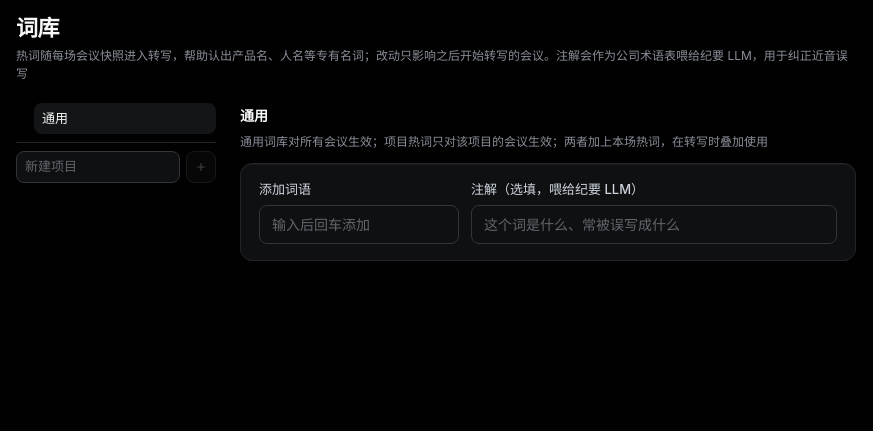
Test: 词库页 › 添加词语可以顺带填注解，一起提交
The width and height of the screenshot is (873, 431).
In the field labelled "添加词语": {"x": 359, "y": 224} [259,205,459,244], type "CUES"
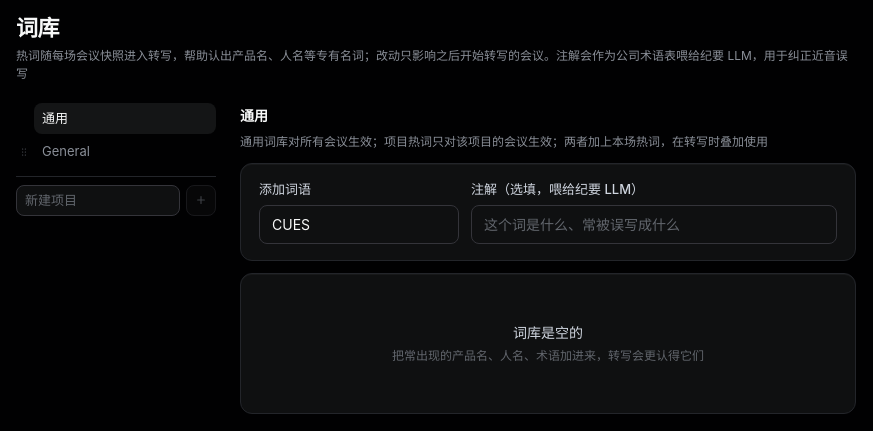
In the field labelled "注解（选填，喂给纪要 LLM）": {"x": 654, "y": 224} [471,205,837,244], type "剑桥工程社团简称"
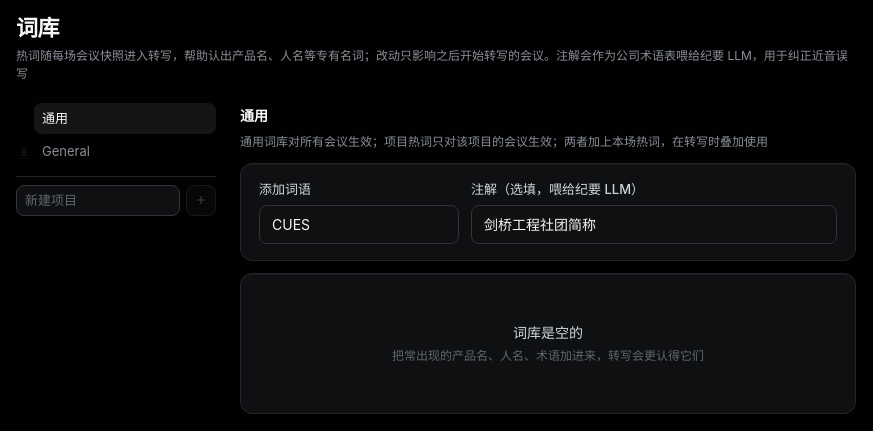
Press Enter in the field labelled "注解（选填，喂给纪要 LLM）", box [471,205,837,244]
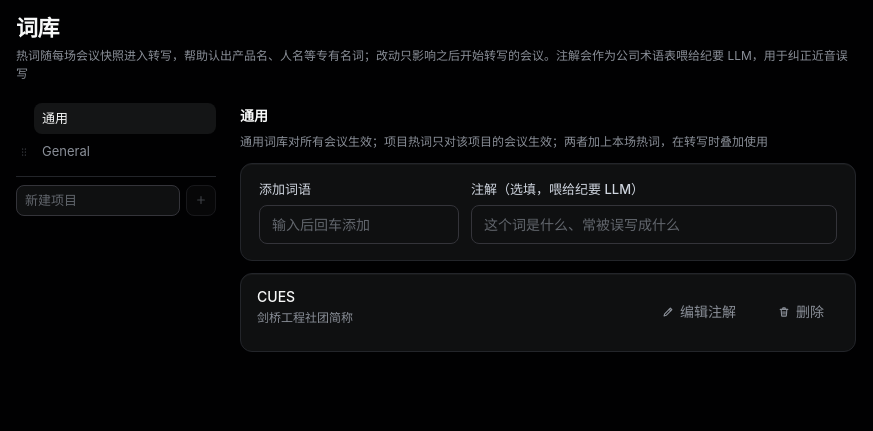
Expected: the text "CUES" is shown, [257,288,295,305]
Expected: the text "剑桥工程社团简称" is shown, [257,310,353,325]
